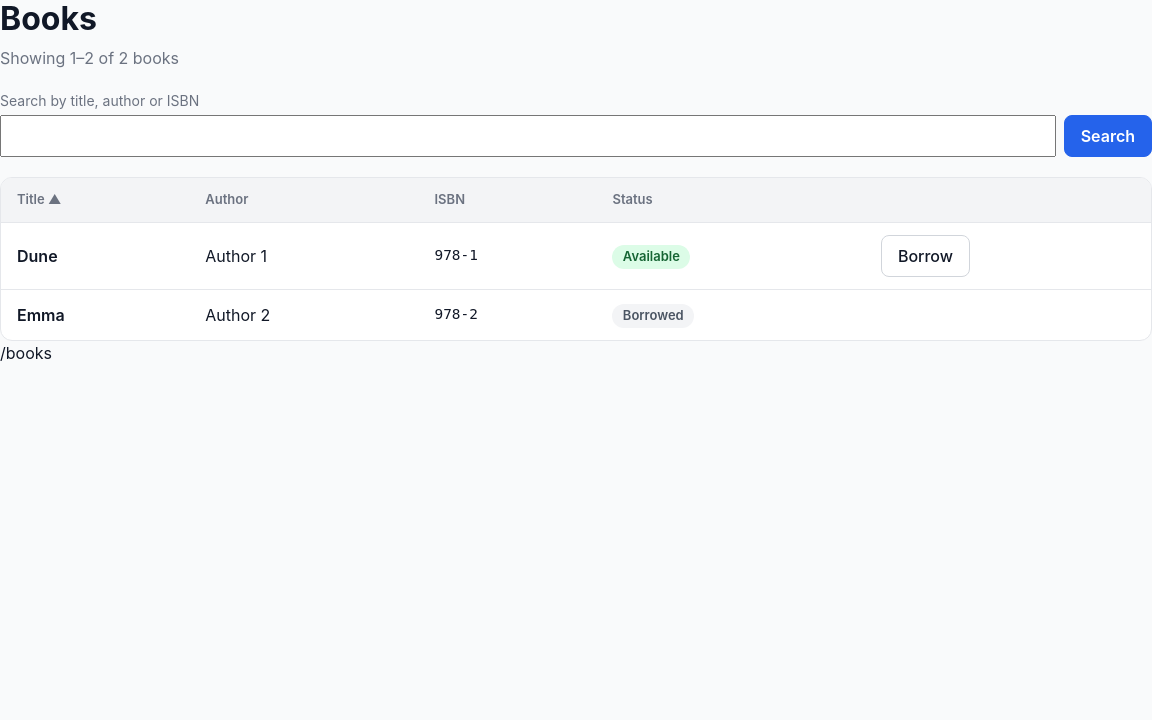
Test: BooksPage borrowing › explains that someone else took the book and reloads the list
The image size is (1152, 720).
Click the button with aria-label "Borrow Dune": (925, 256) 881,235 -> 970,277
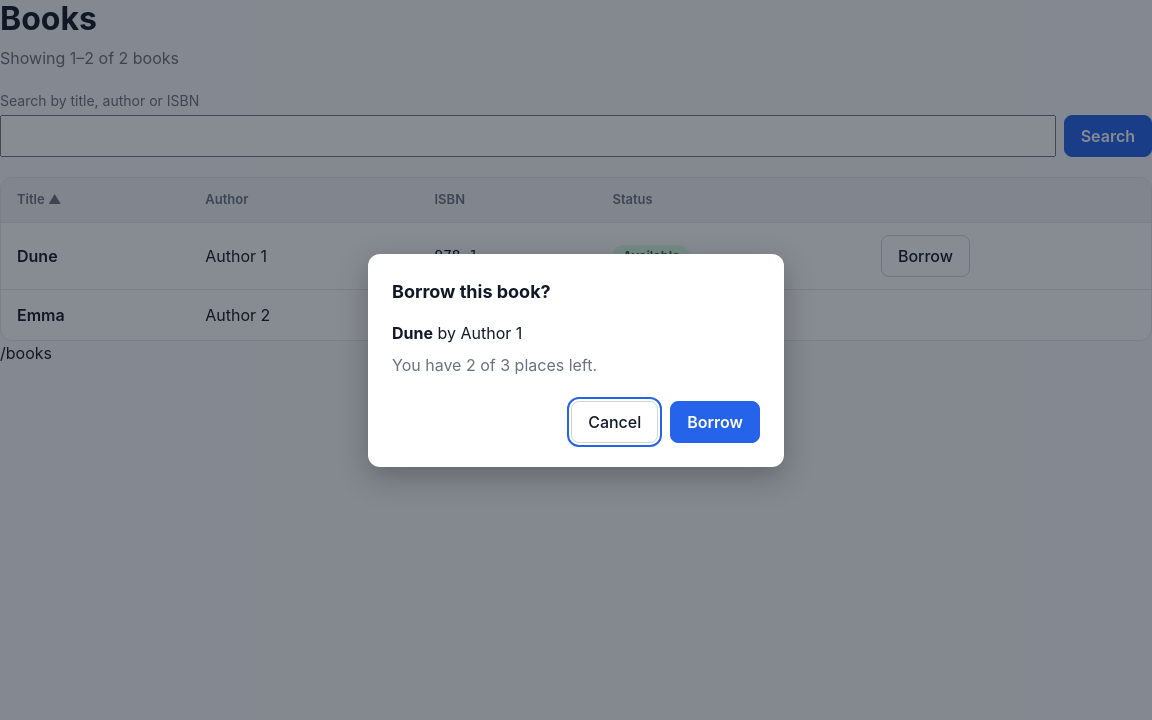
Click the button "Borrow": (715, 422) 670,400 -> 760,442
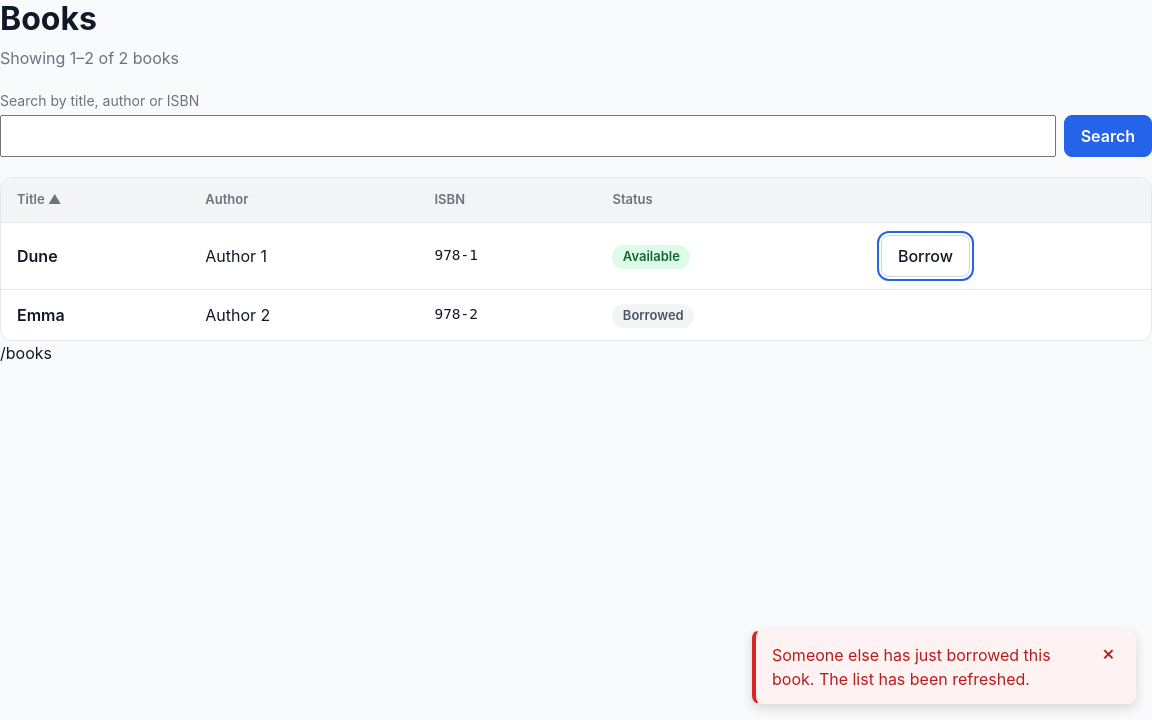
Now the text "Someone else has just borrowed this book" is shown, box 772,645 -> 1051,689
